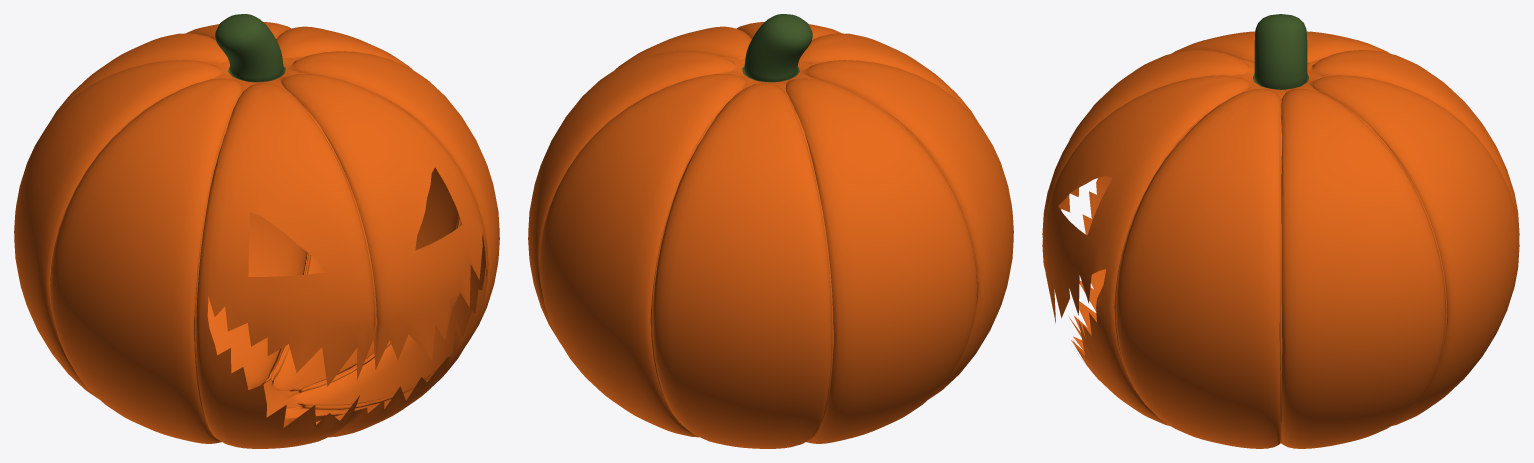
Rendered from Pumpkin.fbx.
The picture shows the model from 3 angles, left to right: view 1: azimuth 30°, elevation 25°; view 2: azimuth 150°, elevation 25°; view 3: azimuth 270°, elevation 25°; orthographic projection.
Visible parts, largest first — view 1: Pumpkin-body, Pumpkin-top; view 2: Pumpkin-body, Pumpkin-top; view 3: Pumpkin-body, Pumpkin-top.
Part boxes in pixels (x1,y1,x2,y2): Pumpkin-body: [14, 22, 499, 448]; Pumpkin-top: [215, 14, 283, 81]; Pumpkin-body: [528, 22, 1013, 448]; Pumpkin-top: [744, 14, 812, 81]; Pumpkin-body: [1042, 31, 1519, 448]; Pumpkin-top: [1254, 14, 1307, 89].
Bounding box in the file's own units: 121 × 109 × 121.
